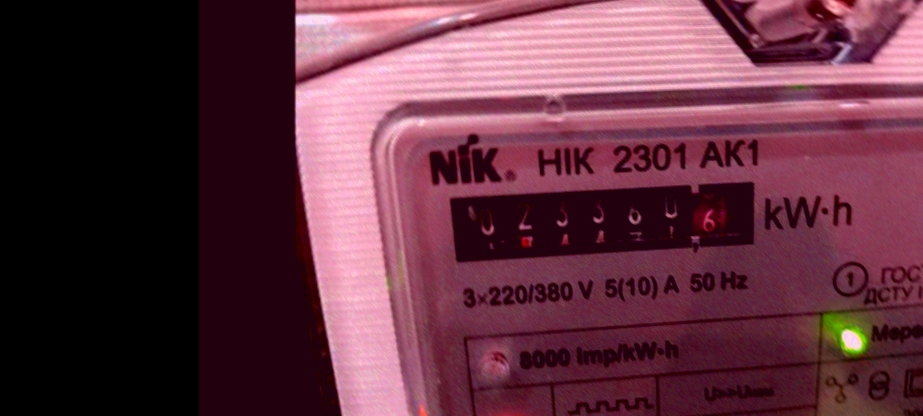0: (476, 203, 498, 237), (659, 189, 681, 220)
2: (515, 198, 535, 231)
3: (589, 191, 608, 224), (551, 197, 570, 228)
6: (624, 193, 645, 226), (699, 202, 720, 235)
screen: (434, 172, 772, 267)
